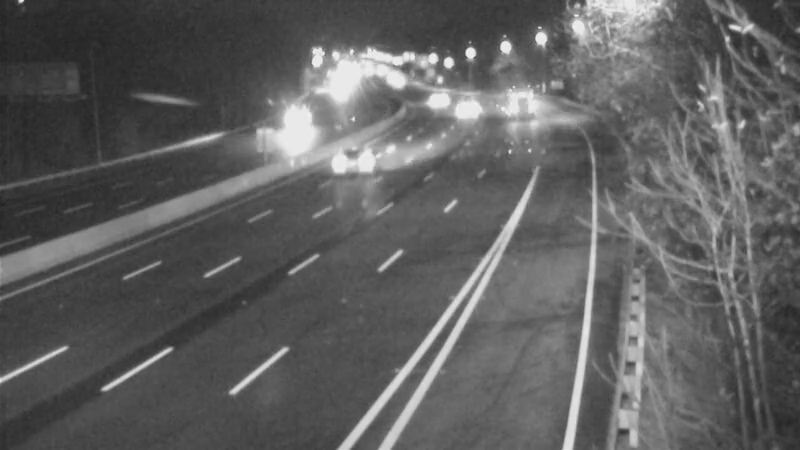vehicle: (321, 124, 401, 204), (366, 52, 416, 102), (377, 60, 427, 110), (486, 76, 536, 126), (408, 77, 458, 127), (443, 85, 493, 135), (270, 95, 320, 145), (313, 64, 363, 114)
